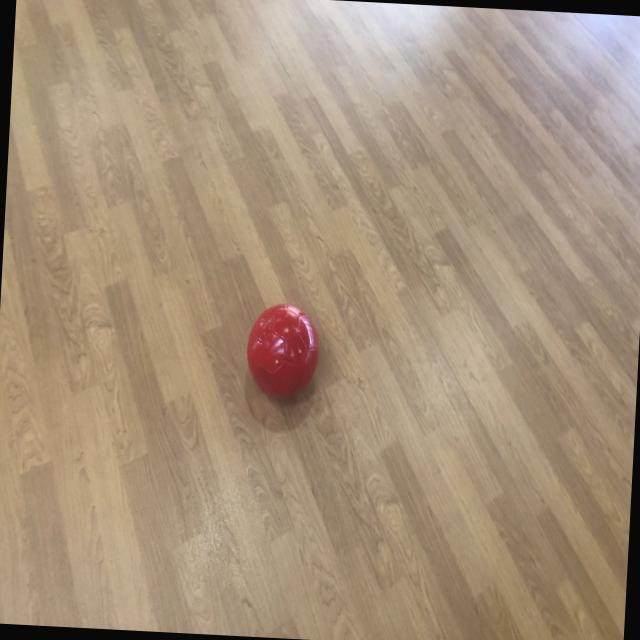red_ball: (245, 302, 317, 401)
